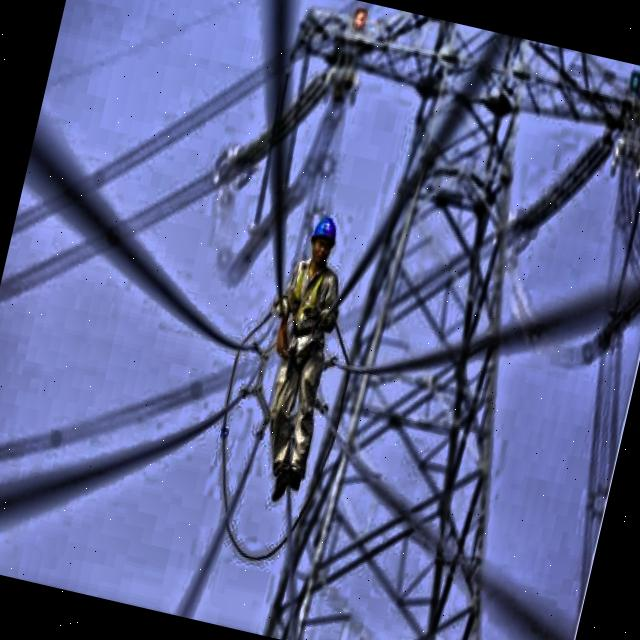helmet: (302, 206, 348, 272)
